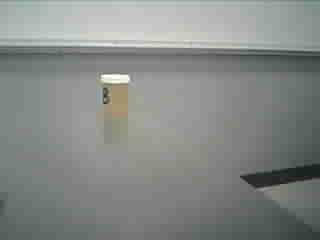Bottle B: (95, 70, 138, 125)
